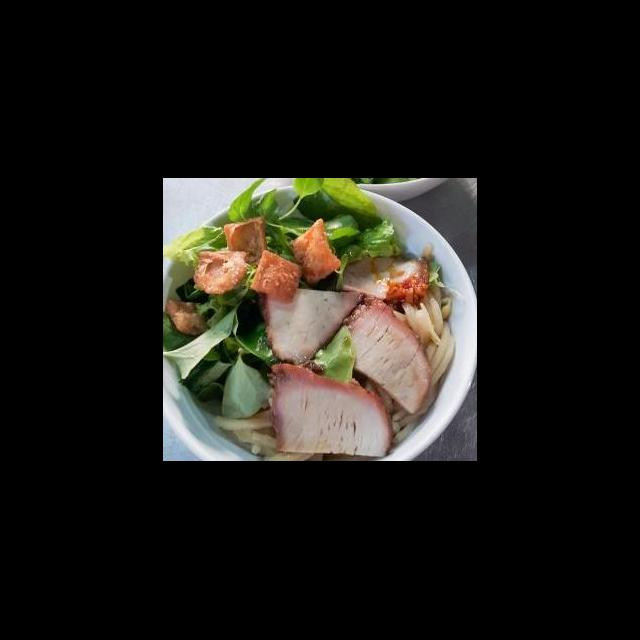banh da: (287, 216, 343, 288), (246, 248, 305, 304), (189, 248, 250, 298), (220, 214, 269, 268), (164, 296, 211, 340)
mi: (387, 282, 457, 390), (210, 406, 318, 462), (363, 374, 425, 446)
mi quang: (166, 200, 477, 462)
thit heo: (317, 294, 435, 418), (263, 358, 395, 459), (257, 284, 368, 378), (332, 253, 432, 310)
